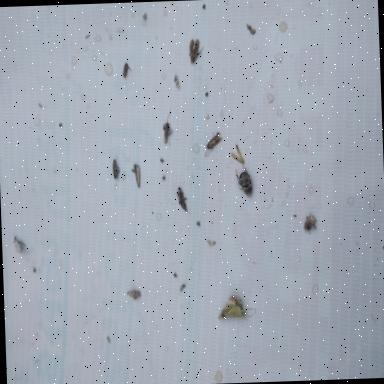pbw: (188, 38, 204, 63), (204, 130, 222, 148), (162, 121, 170, 144), (133, 162, 140, 188), (126, 288, 140, 300), (122, 62, 132, 78), (112, 158, 118, 178)
